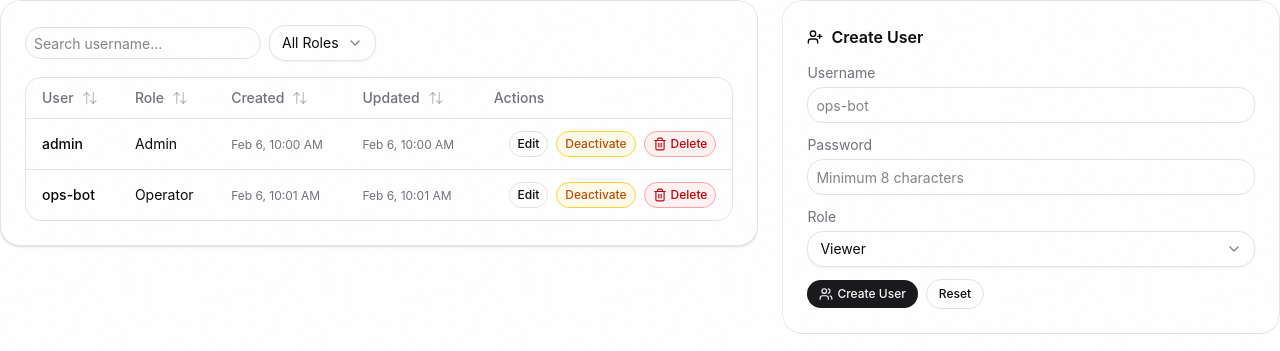
Scenario: UsersPanel › shows highlight ring on form section when Edit is clicked and clears on Reset
Step 1. Click the 1st button "Edit" → (528, 144), box 508,130 -> 548,156
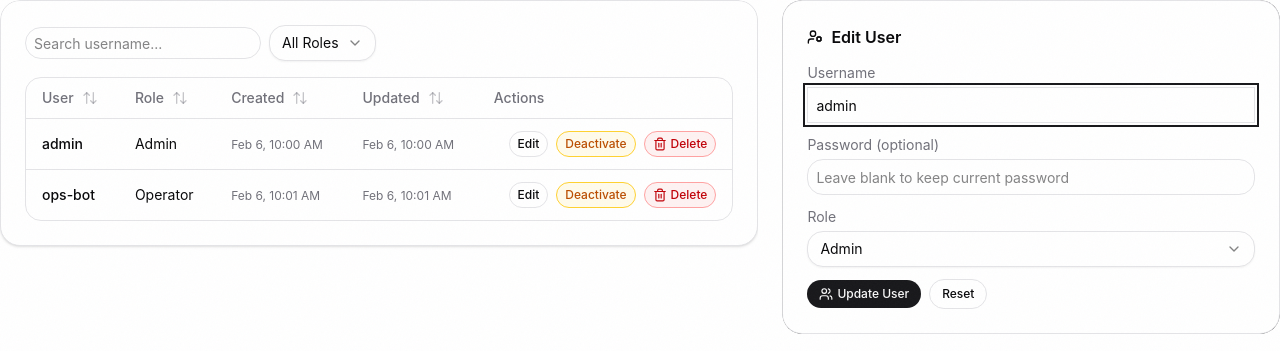
Result: the heading "Edit User" is shown at 807,25 -> 901,49
Note: Reset form returns to create mode — heading changes back
Step 2. Click the button "Reset" → (958, 294), box 929,279 -> 988,309
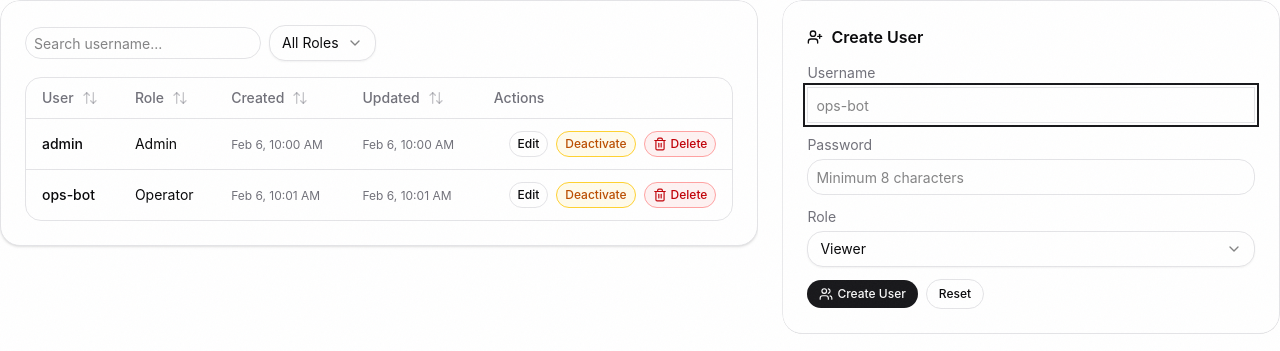
Result: the heading "Create User" is shown at 807,25 -> 923,49
